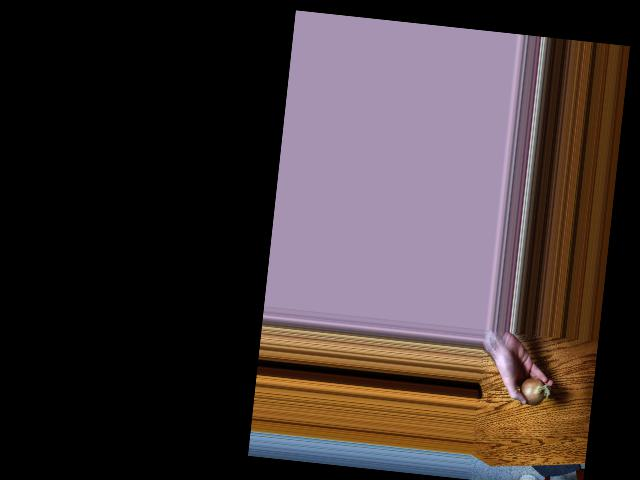onion: (518, 374, 546, 406)
